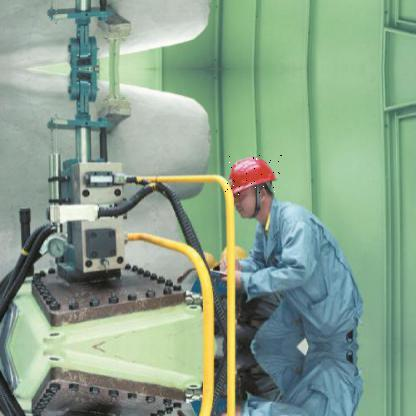safetyhelmet: (224, 154, 283, 196)
